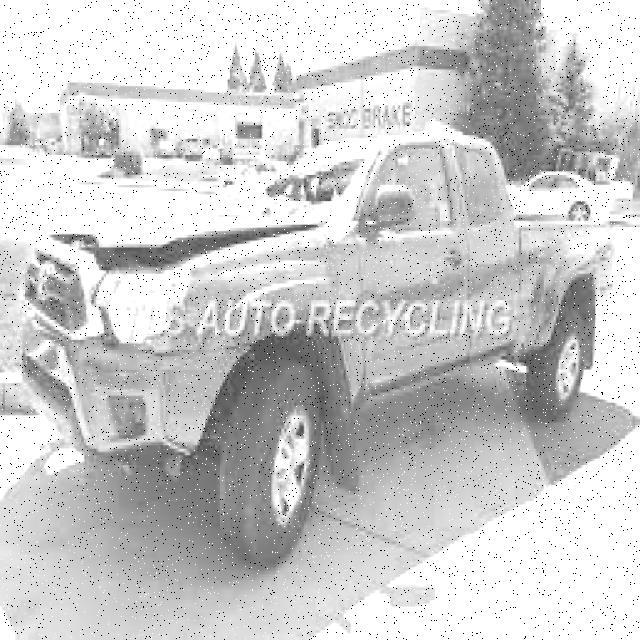car damage: (24, 144, 383, 388)
